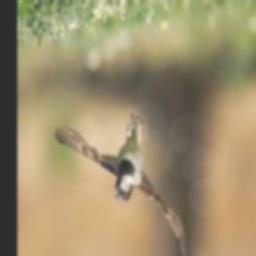Sparrow: (54, 113, 186, 255)
